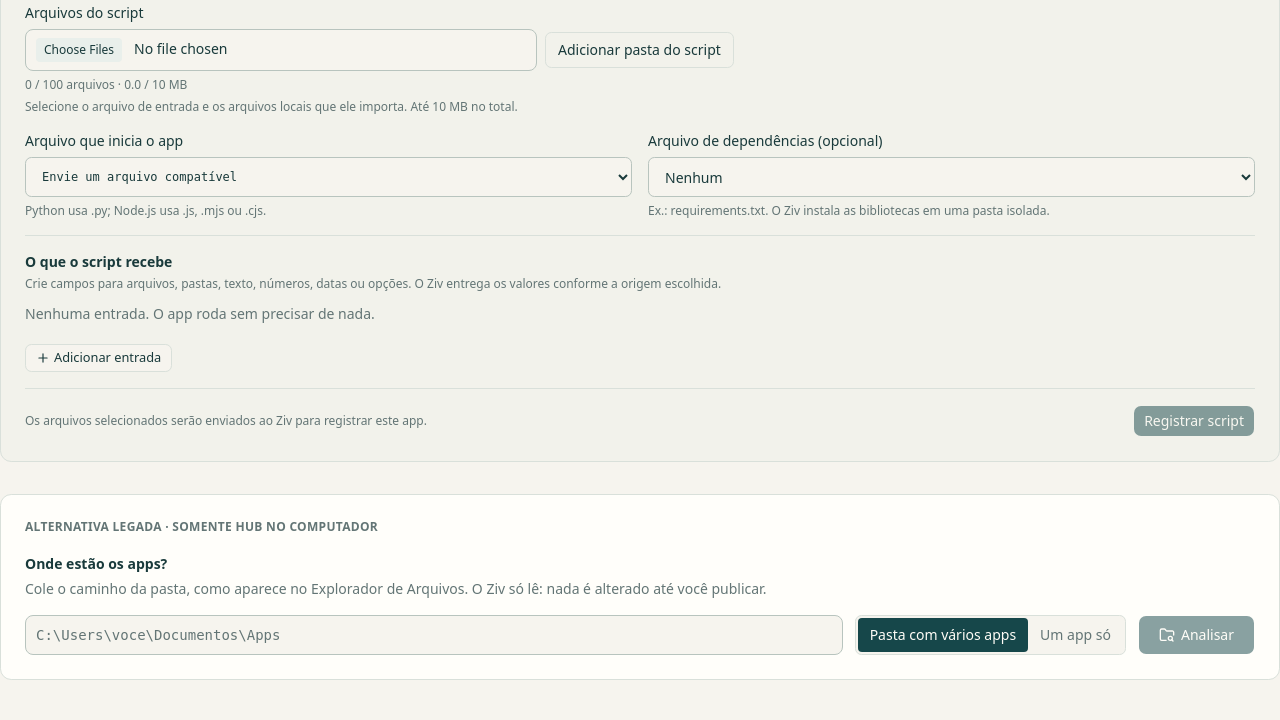
Test: single-app mode and scan errors
The image size is (1280, 720).
(page scrolled)
Type "C:\\nada" into the field labelled "Onde estão os apps?". click: (434, 635)
box: [25,615,843,655]
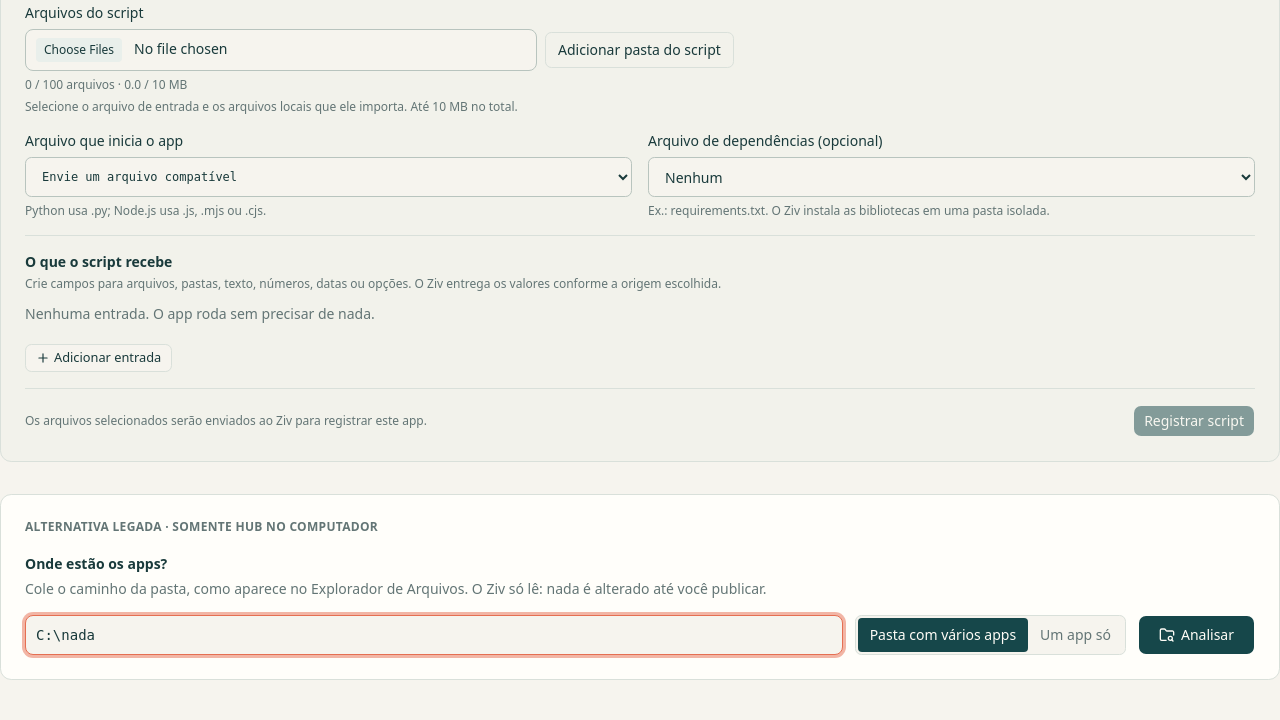
Click the radio button labelled "Um app só". click: (1076, 635)
box: [1028,618,1123,652]
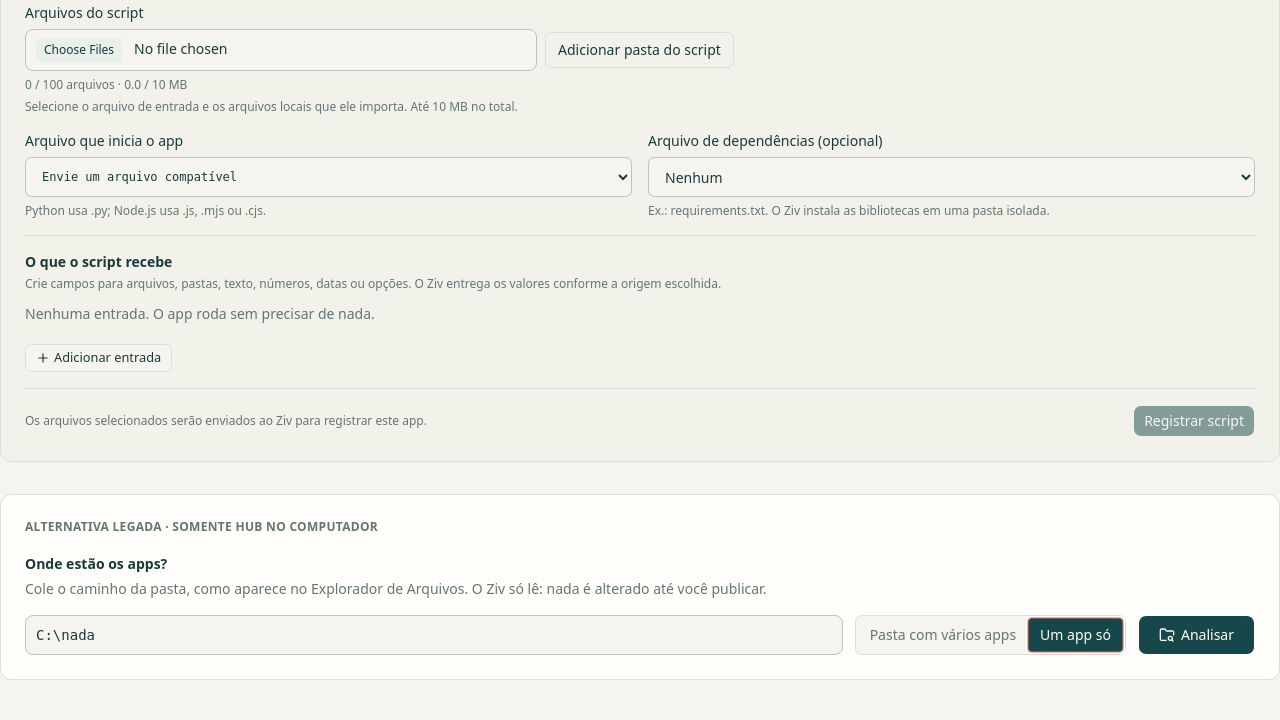
Click the button "Analisar". click: (1196, 635)
box: [1138,615,1255,655]
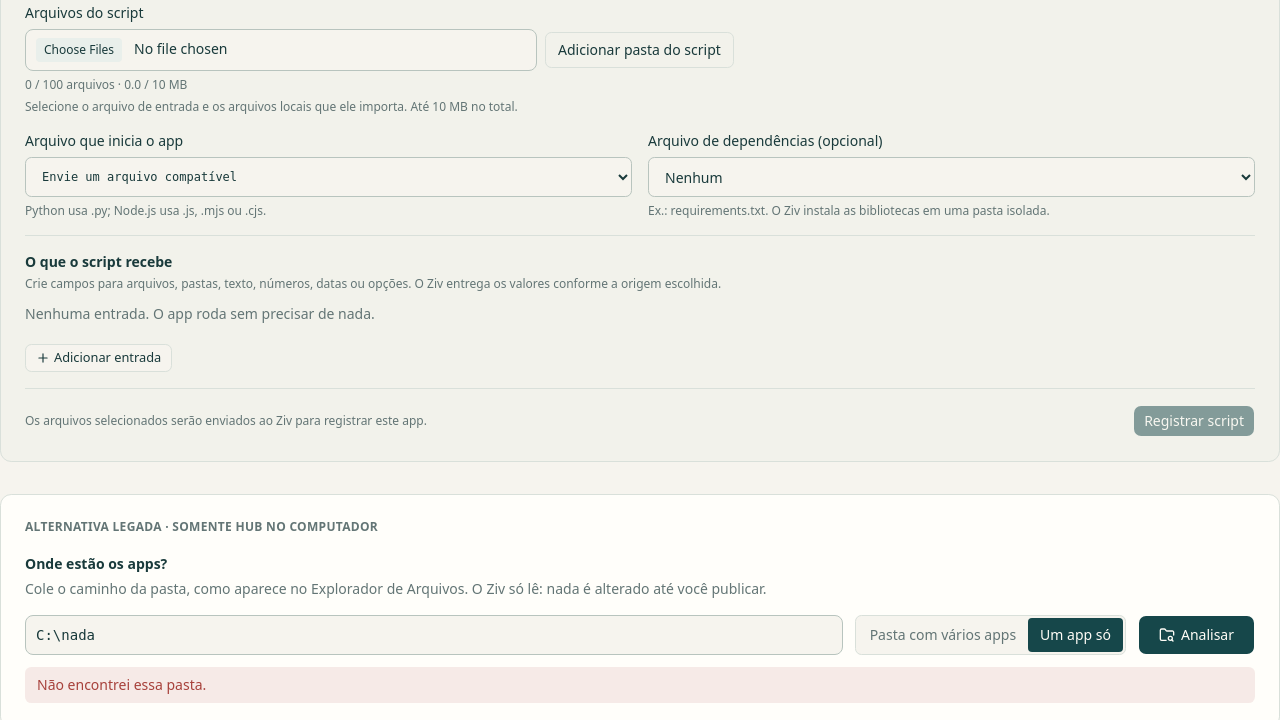
Check: the message reads "Não encontrei essa pasta.", box [37,675,206,694]
